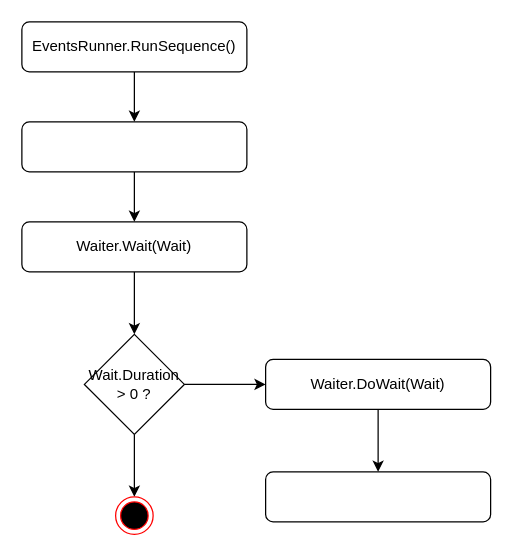
Image size: 513x556. Some labels were removed from this diagram. Here are the shapes that lost their labels. From the top down, the centre of each, then its label:
the point at 134,146: Wait.Run()
the point at 377,496: Wait.IsFinished()
